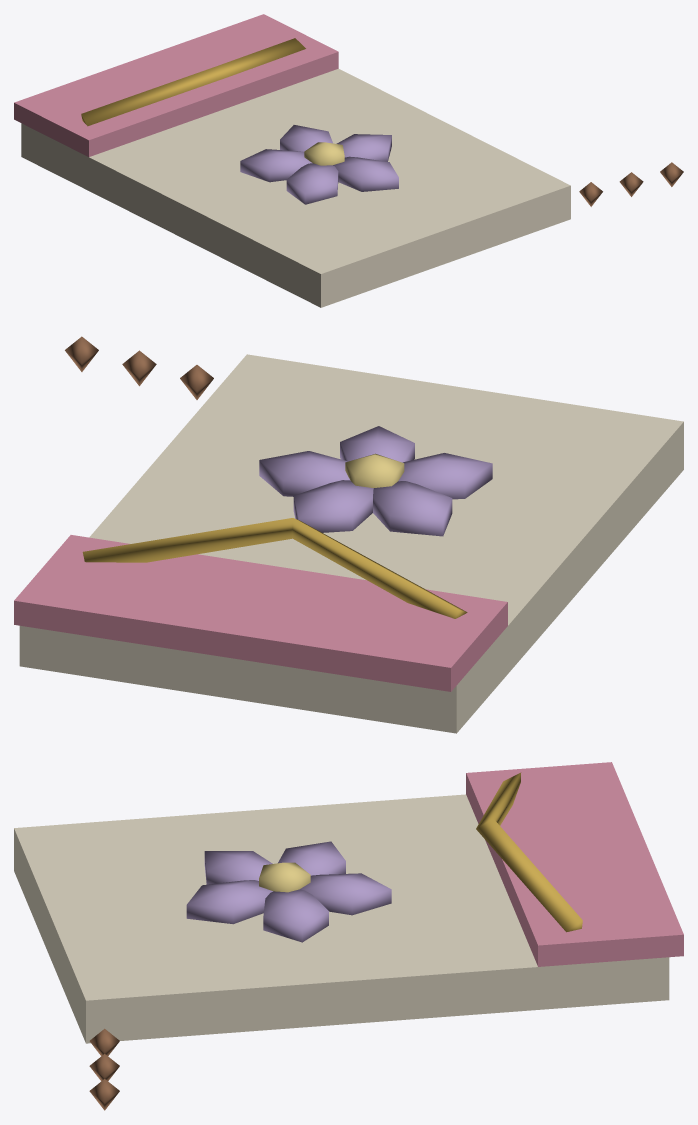
The model's file is col_seed_packet.gltf.
3 views of the same model, one above another, from view 1: azimuth 30°, elevation 25°; view 2: azimuth 150°, elevation 25°; view 3: azimuth 270°, elevation 25° (orthographic). The views are drawn at different scales.
Visible parts, largest first — view 1: col_seed_packet; view 2: col_seed_packet; view 3: col_seed_packet.
Part boxes in pixels (x1,y1,x2,y2): col_seed_packet: (14, 14, 683, 307); col_seed_packet: (14, 336, 683, 733); col_seed_packet: (14, 762, 683, 1110).
Size of what is drawn, in the model's own units: 0.1166 by 0.0197 by 0.1131.
